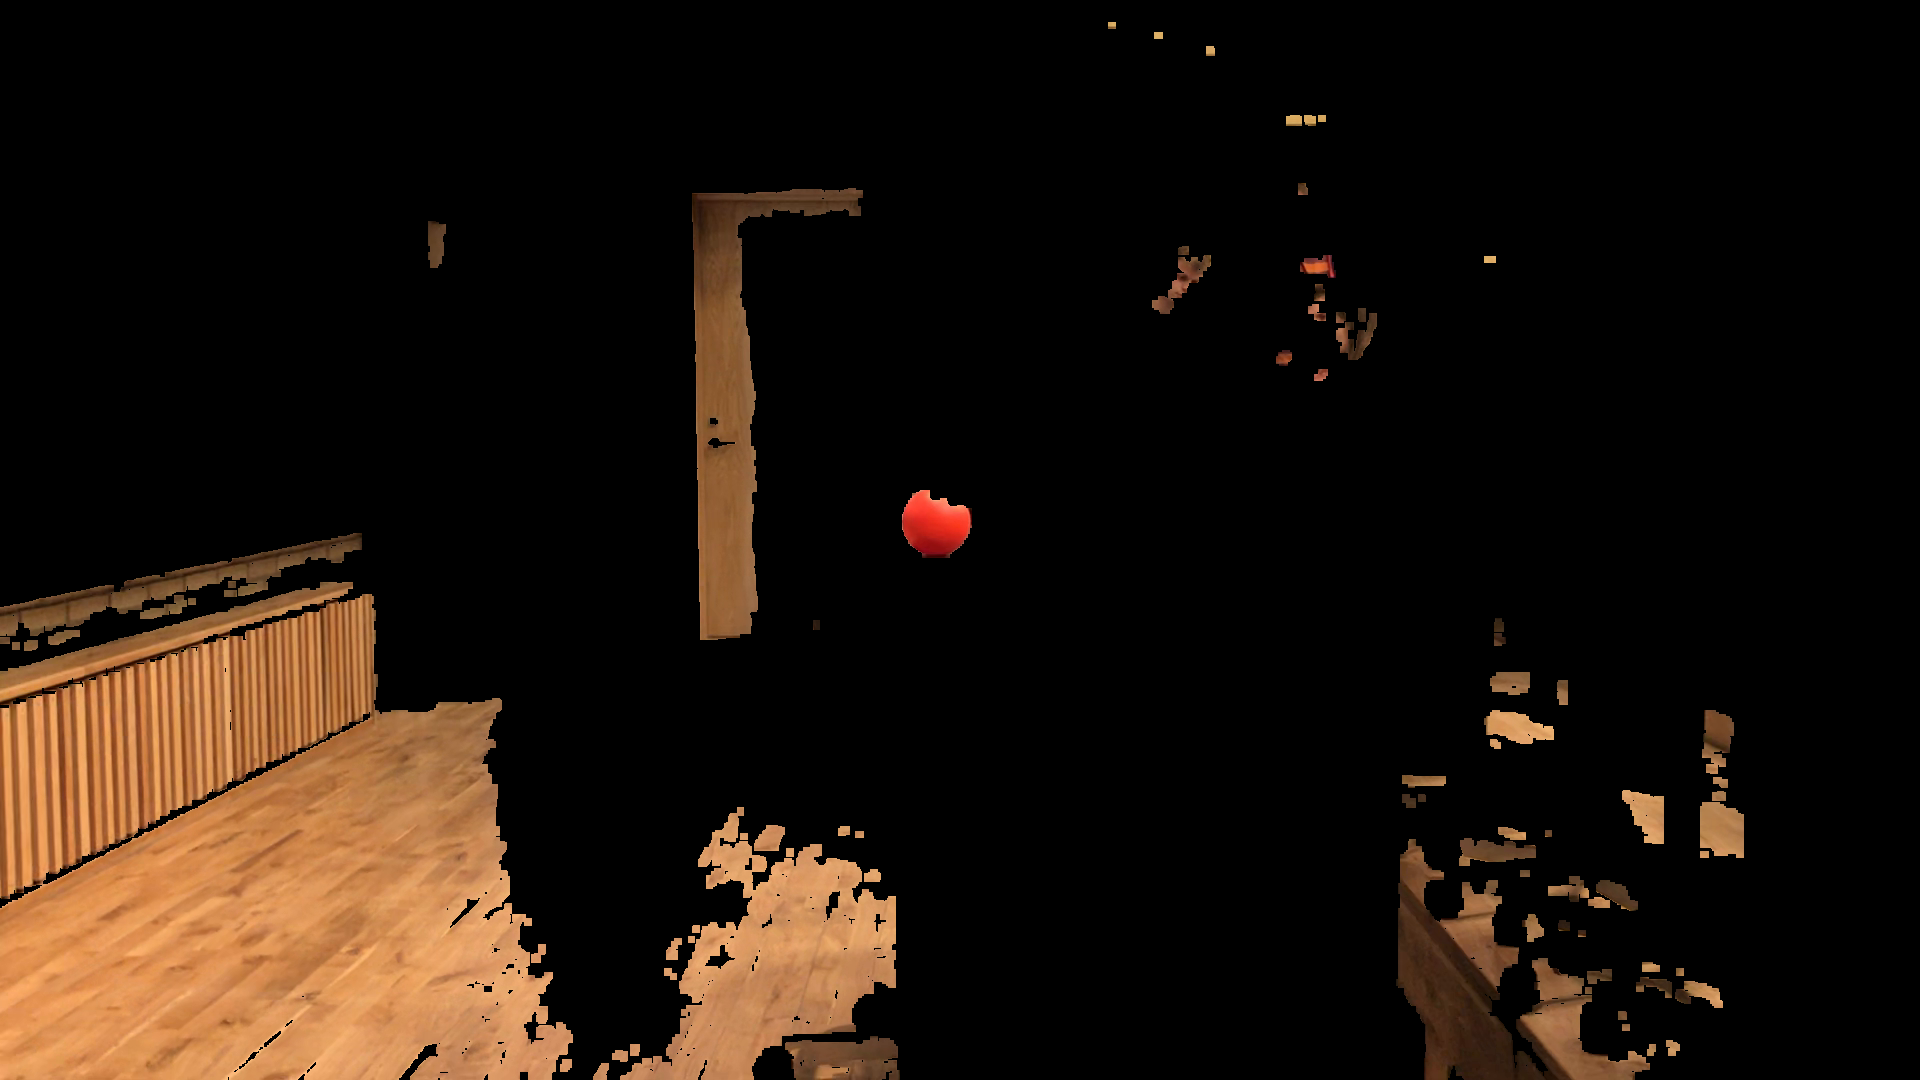Ball: (899, 480, 980, 556)
